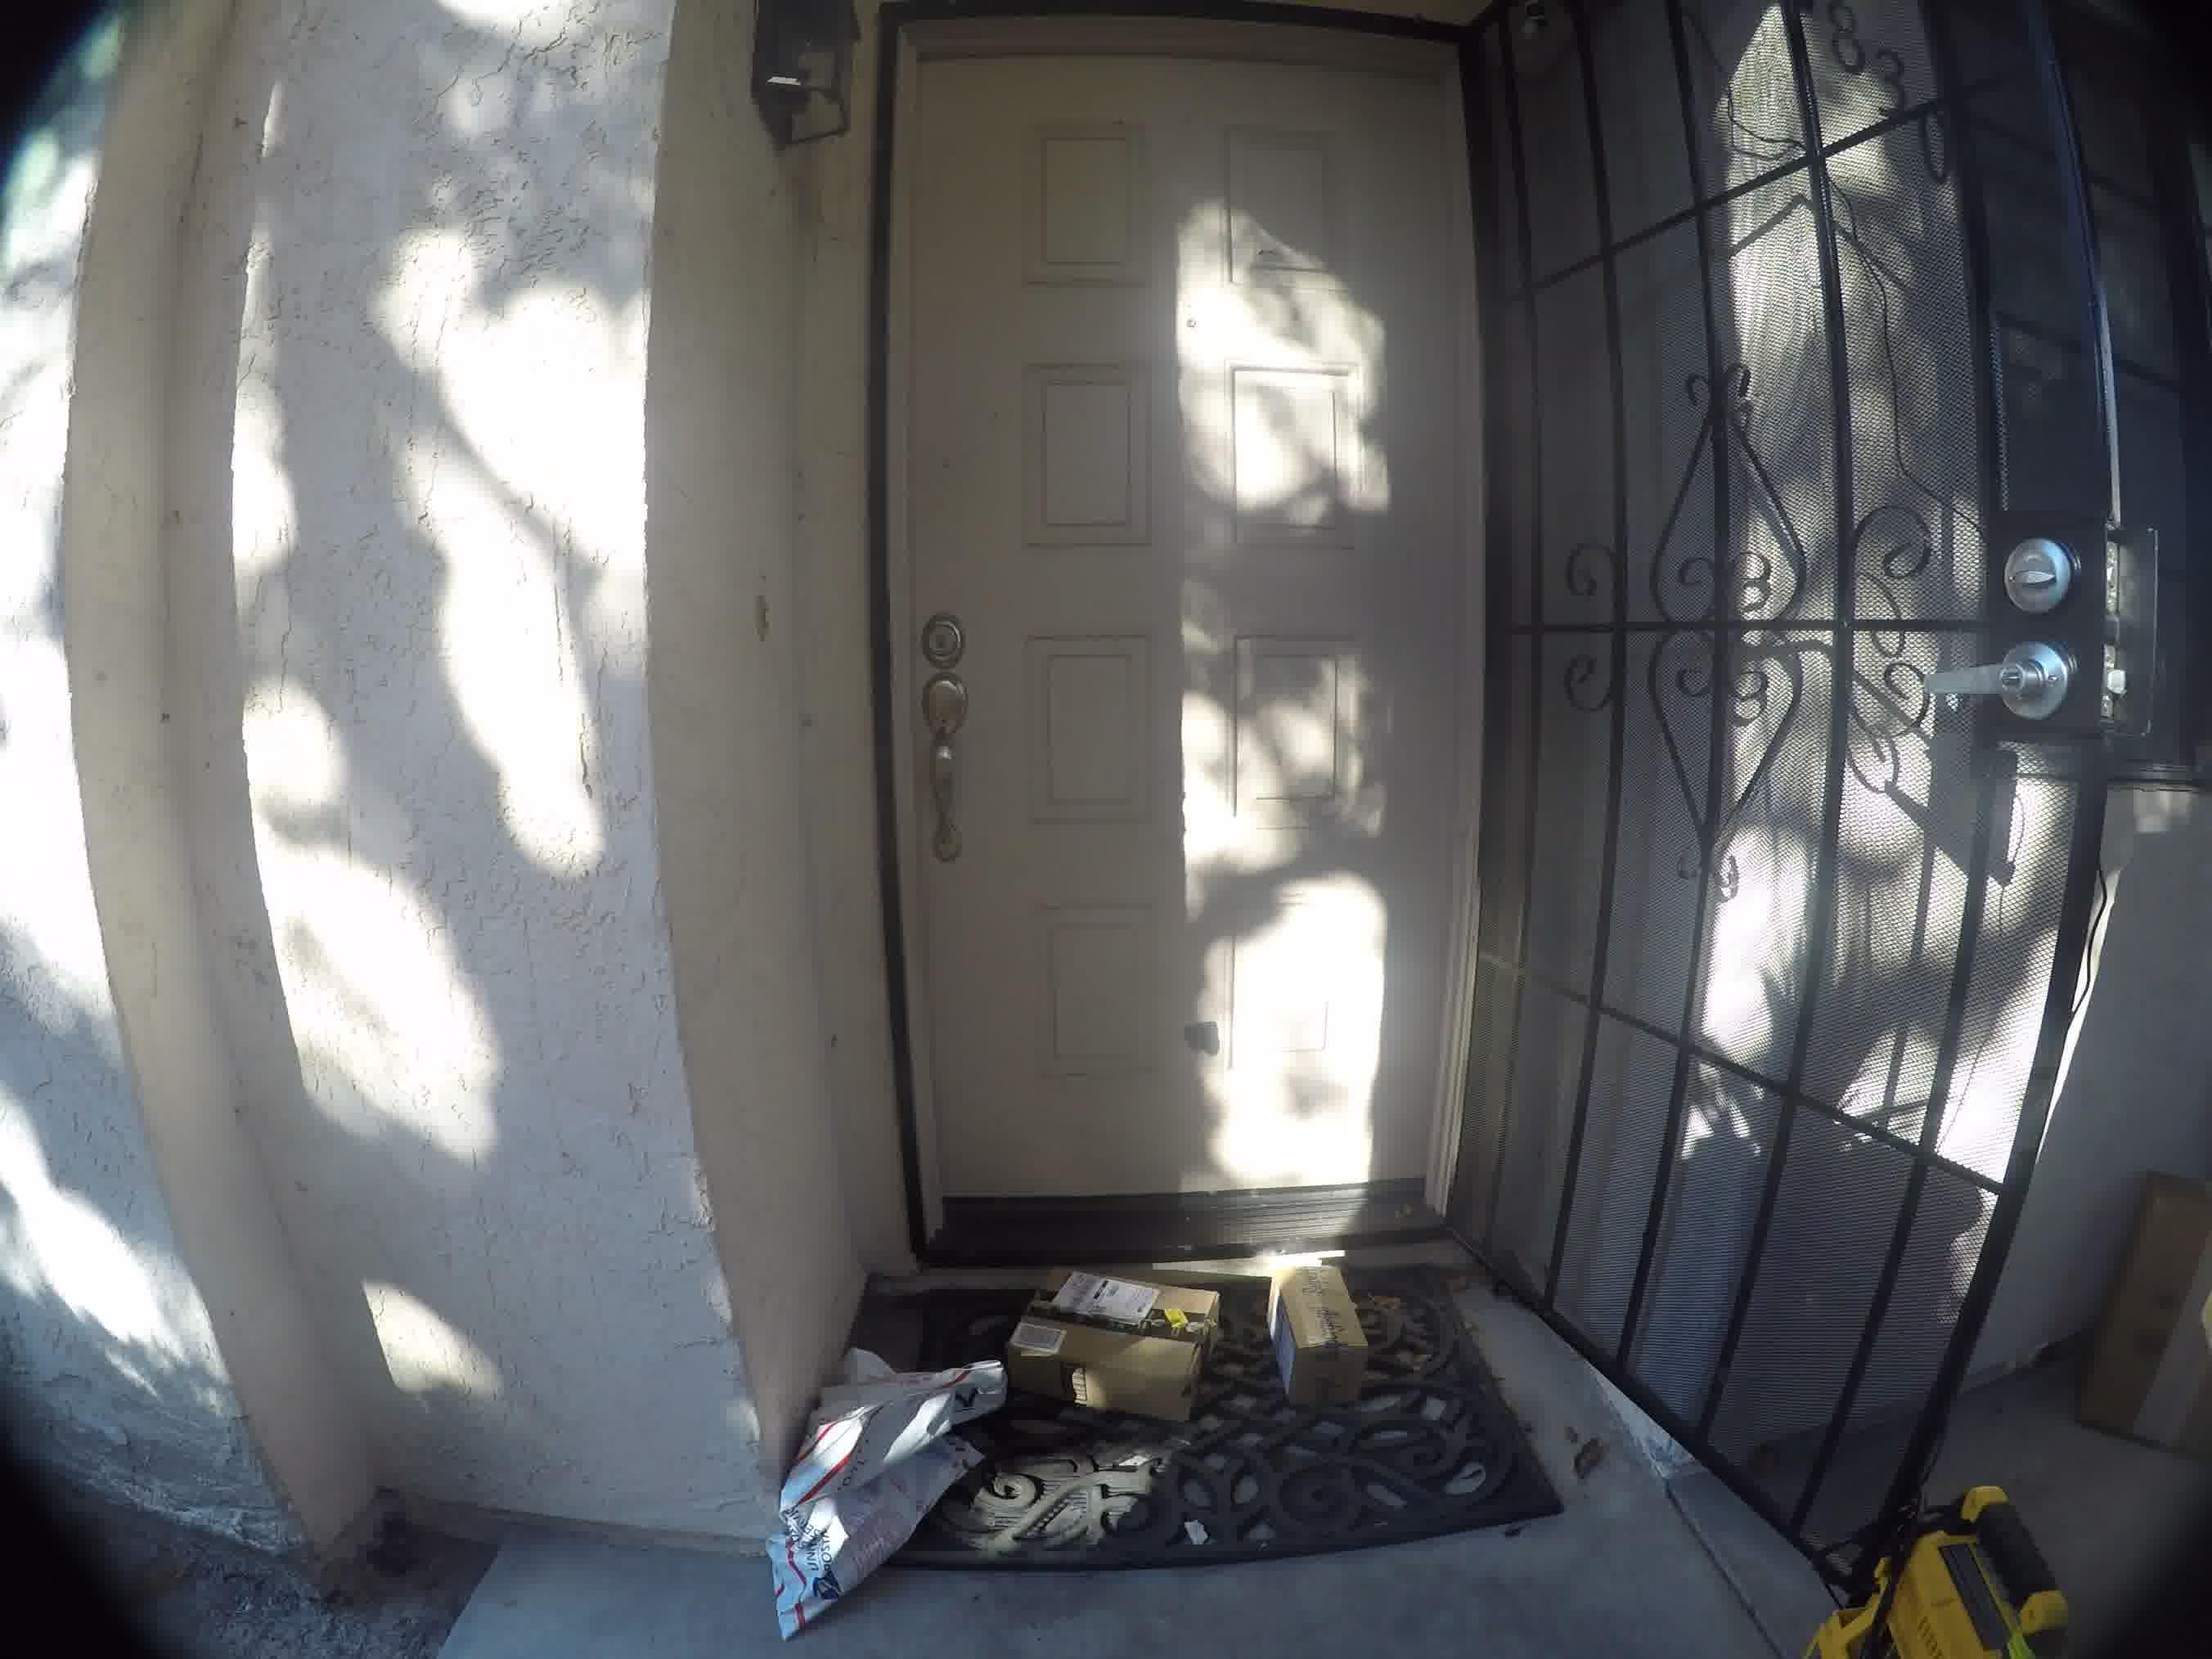box: (1012, 1227, 1226, 1412), (1252, 1237, 1381, 1403)
plastic_bag: (798, 1335, 1019, 1619)
